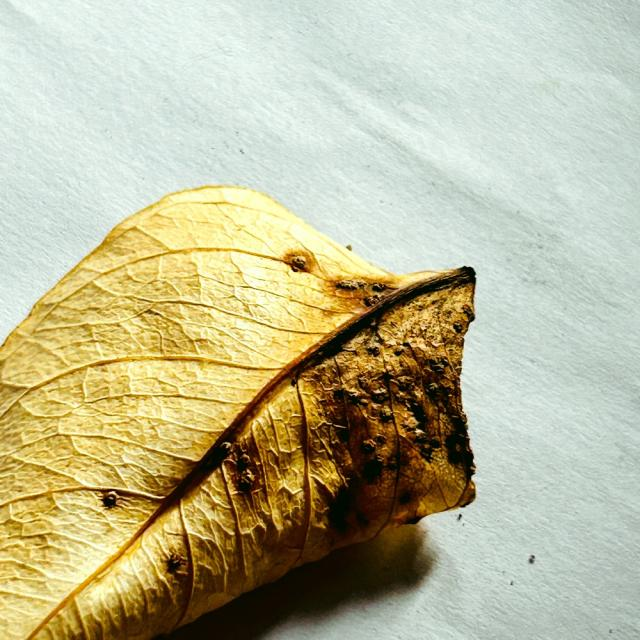DryLeaf_Lemon: (0, 187, 475, 639)
